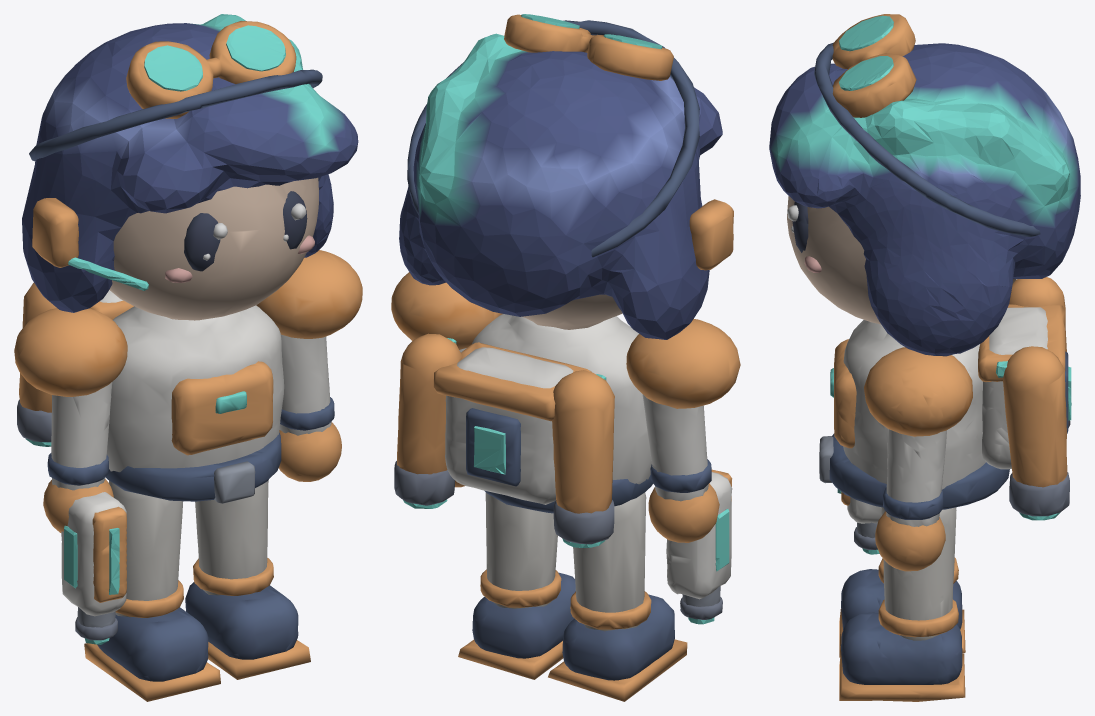
3 views of the same model, side by side, from view 1: azimuth 30°, elevation 25°; view 2: azimuth 150°, elevation 25°; view 3: azimuth 270°, elevation 25° (orthographic).
Parts seen in each view (by area): view 1: hair, torso, head, leg_r, leg_l, arm_r, arm_l, goggles, gun, goggles_glow, gun_glow, head_glow; view 2: hair, torso, arm_r, leg_r, leg_l, goggles, gun, arm_l, head, torso_glow, gun_glow, goggles_glow; view 3: hair, torso, arm_l, leg_l, goggles, head, leg_r, goggles_glow, gun, torso_glow.
Boxes of the visible parts, bbox=[...] form: hair: bbox=[22, 14, 358, 312]; torso: bbox=[17, 282, 284, 503]; head: bbox=[32, 177, 318, 320]; leg_r: bbox=[84, 480, 220, 701]; leg_l: bbox=[185, 480, 310, 679]; arm_r: bbox=[14, 308, 127, 532]; arm_l: bbox=[256, 250, 362, 481]; goggles: bbox=[29, 21, 322, 161]; gun: bbox=[61, 492, 126, 640]; goggles_glow: bbox=[144, 25, 285, 91]; gun_glow: bbox=[64, 525, 119, 644]; head_glow: bbox=[68, 257, 148, 290]; hair: bbox=[399, 33, 722, 339]; torso: bbox=[394, 314, 653, 544]; arm_r: bbox=[626, 319, 740, 542]; leg_r: bbox=[548, 492, 687, 701]; leg_l: bbox=[458, 492, 575, 679]; goggles: bbox=[407, 14, 699, 257]; gun: bbox=[666, 469, 732, 619]; arm_l: bbox=[391, 272, 502, 487]; head: bbox=[522, 199, 733, 329]; torso_glow: bbox=[403, 338, 606, 547]; gun_glow: bbox=[688, 509, 729, 624]; goggles_glow: bbox=[521, 14, 662, 48]; hair: bbox=[769, 43, 1080, 356]; torso: bbox=[819, 277, 1070, 516]; arm_l: bbox=[864, 347, 972, 571]; leg_l: bbox=[839, 507, 965, 701]; goggles: bbox=[814, 14, 1040, 236]; head: bbox=[787, 196, 1016, 324]; leg_r: bbox=[839, 557, 965, 657]; goggles_glow: bbox=[839, 15, 893, 90]; gun: bbox=[841, 492, 881, 549]; torso_glow: bbox=[996, 361, 1071, 520].
Size of the model in its own units: 0.6332 by 1.13 by 0.5146.
